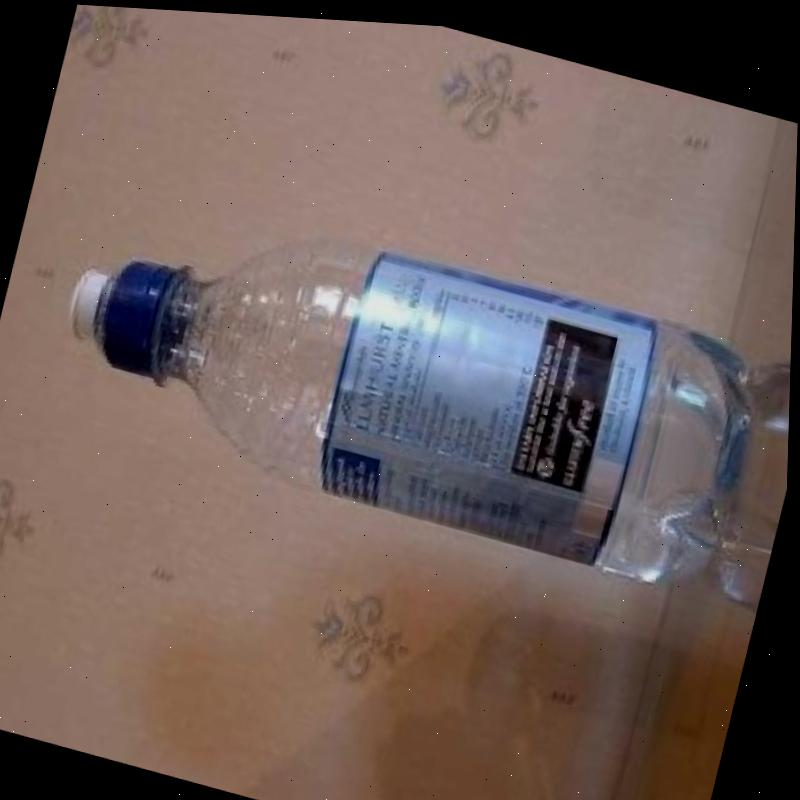botella: (39, 156, 782, 595)
